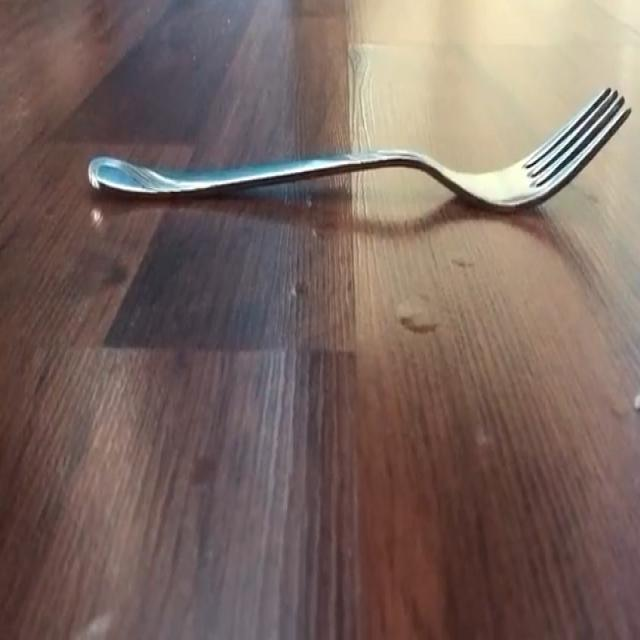spoon: (94, 87, 631, 207)
